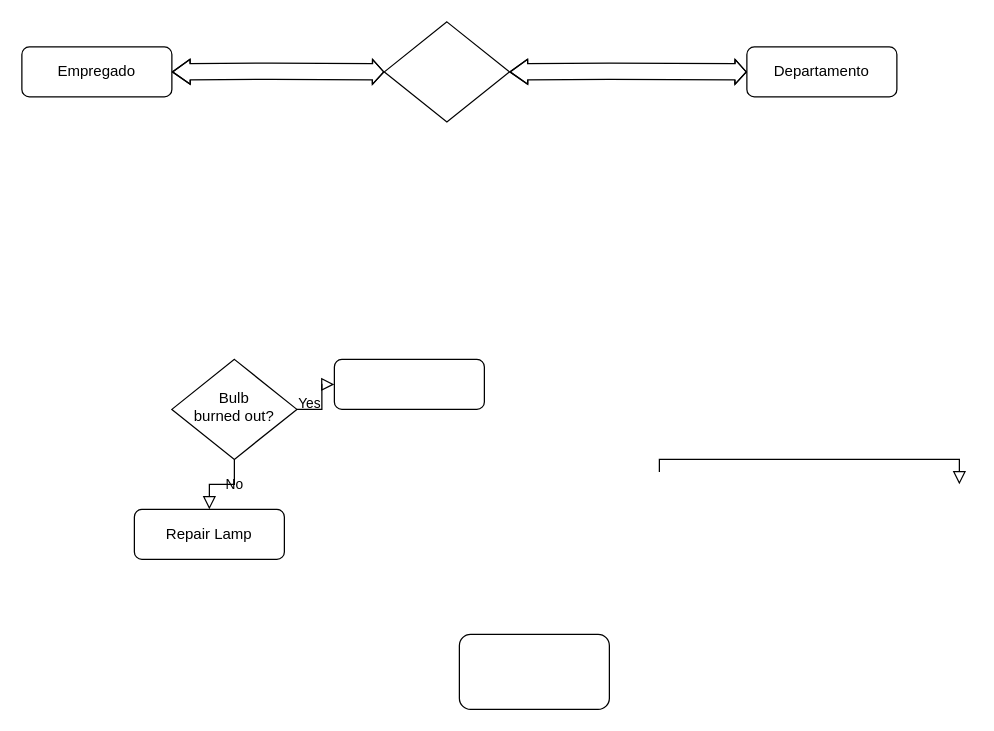
Some shapes in this 994 by 731 pixel diagram are drawn without their labels. The box of each missing label's shape, as (x1, y1, x2, y2) in pixels:
Replace Bulb: (333, 358, 484, 409)
Trabalha em: (383, 21, 509, 122)
